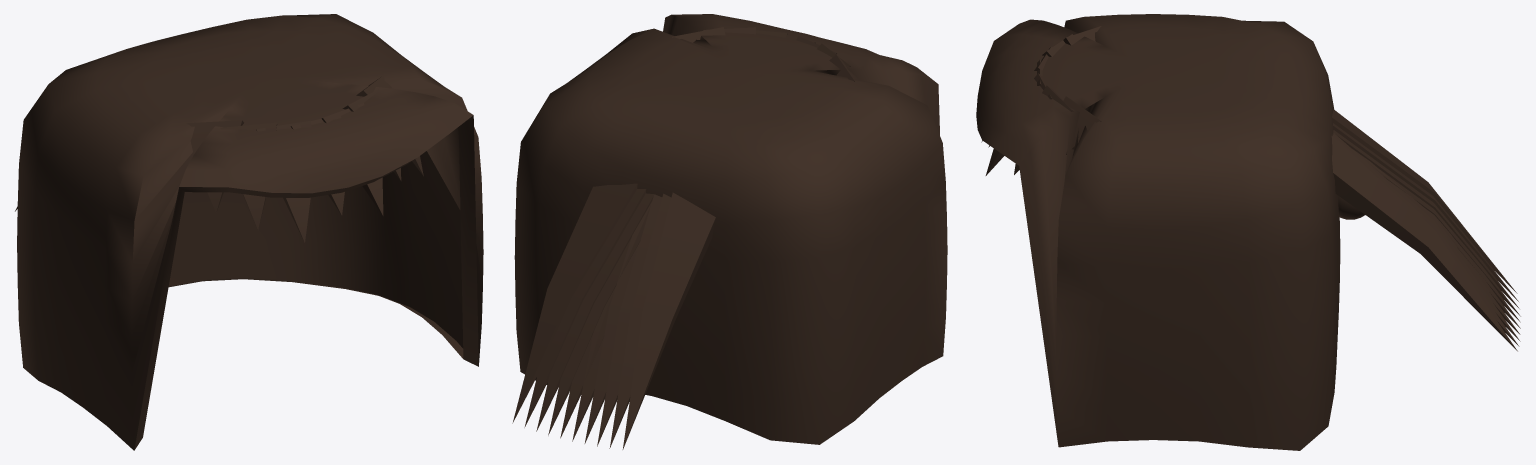
Rendered from Cuerpo_Pelo_Cola.fbx.
3 renders of one model, left to right at view 1: azimuth 30°, elevation 25°; view 2: azimuth 150°, elevation 25°; view 3: azimuth 270°, elevation 25°, orthographic. The views are drawn at different scales.
Visible parts, largest first — view 1: Cuerpo_Pelo_Cola; view 2: Cuerpo_Pelo_Cola; view 3: Cuerpo_Pelo_Cola.
Boxes of the visible parts, x1=… form: Cuerpo_Pelo_Cola: x1=15, y1=14, x2=483, y2=450; Cuerpo_Pelo_Cola: x1=512, y1=14, x2=947, y2=449; Cuerpo_Pelo_Cola: x1=976, y1=14, x2=1520, y2=450.
Bounding box in the file's own units: 1.29 × 1.07 × 1.73.
